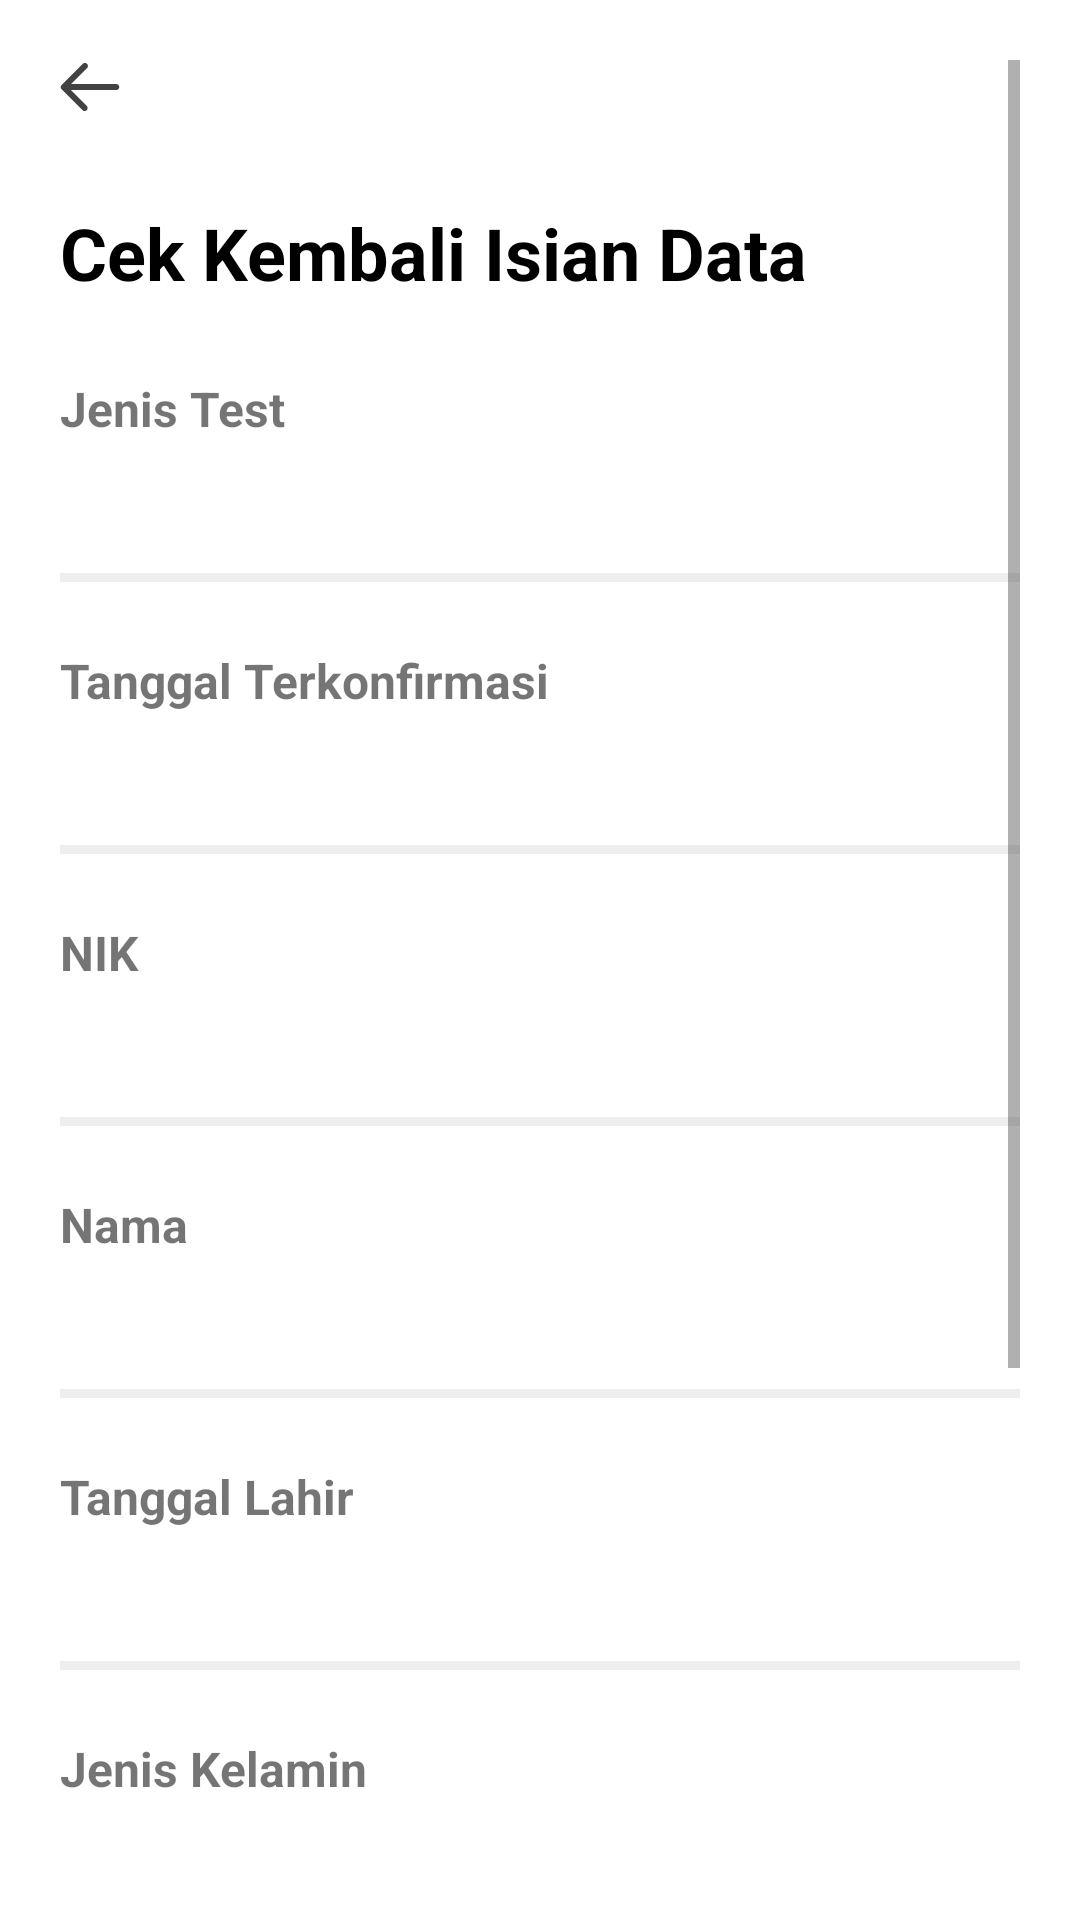

Screen size 1080w x 1920h. Icon name, then its box in pixels as (x1, y1, x2, y2):
panah kembali: (60, 63, 120, 111)
